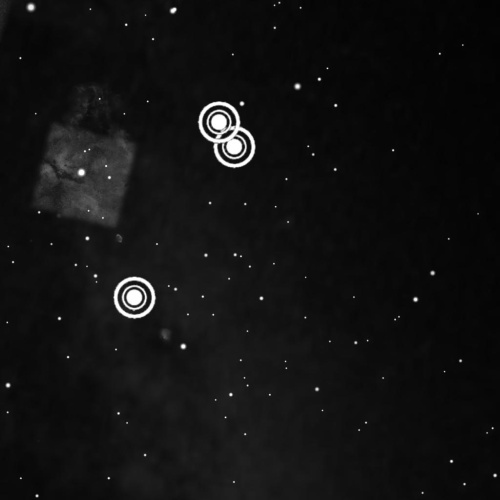canis_minor: (108, 96, 263, 325)
